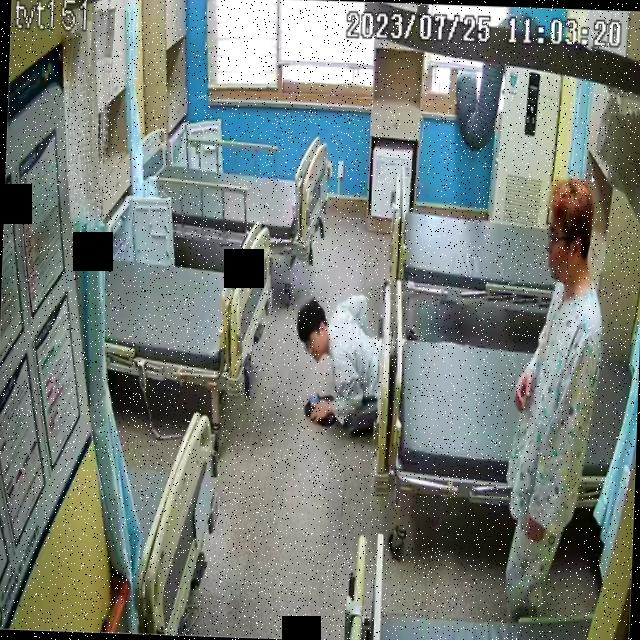bed: (370, 277, 630, 509), (388, 156, 578, 319), (104, 220, 274, 392), (155, 136, 327, 257)
fall: (284, 294, 397, 428)
patient: (506, 180, 607, 618), (282, 294, 402, 431)
stand: (506, 178, 606, 618)
